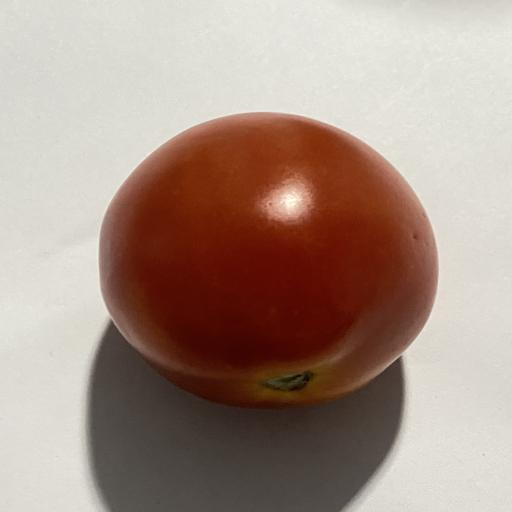ripe: (100, 113, 438, 408)
